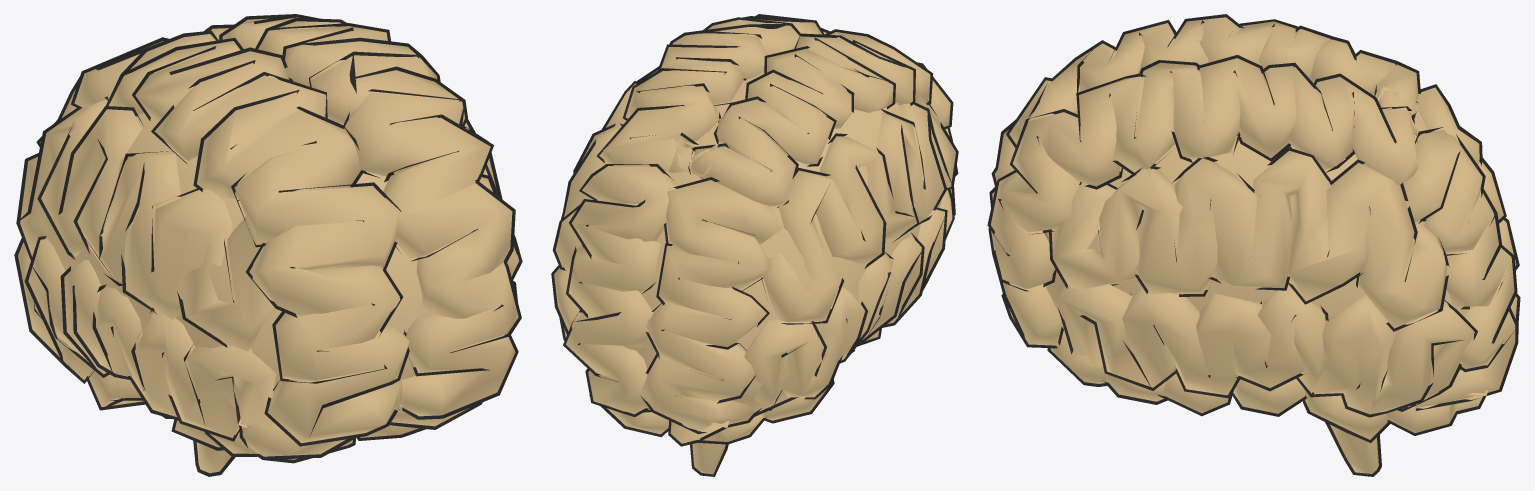
Rendered from Brain.glb.
3 renders of one model, left to right at view 1: azimuth 30°, elevation 25°; view 2: azimuth 150°, elevation 25°; view 3: azimuth 270°, elevation 25°, orthographic. The views are drawn at different scales.
Parts seen in each view (by area): view 1: Brain; view 2: Brain; view 3: Brain.
Boxes of the visible parts, box(x1,y1,x2,y2) form: Brain: box(14, 14, 522, 476); Brain: box(551, 14, 958, 476); Brain: box(987, 14, 1520, 476).
Bounding box in the file's own units: 1.91 × 2.36 × 2.66.
